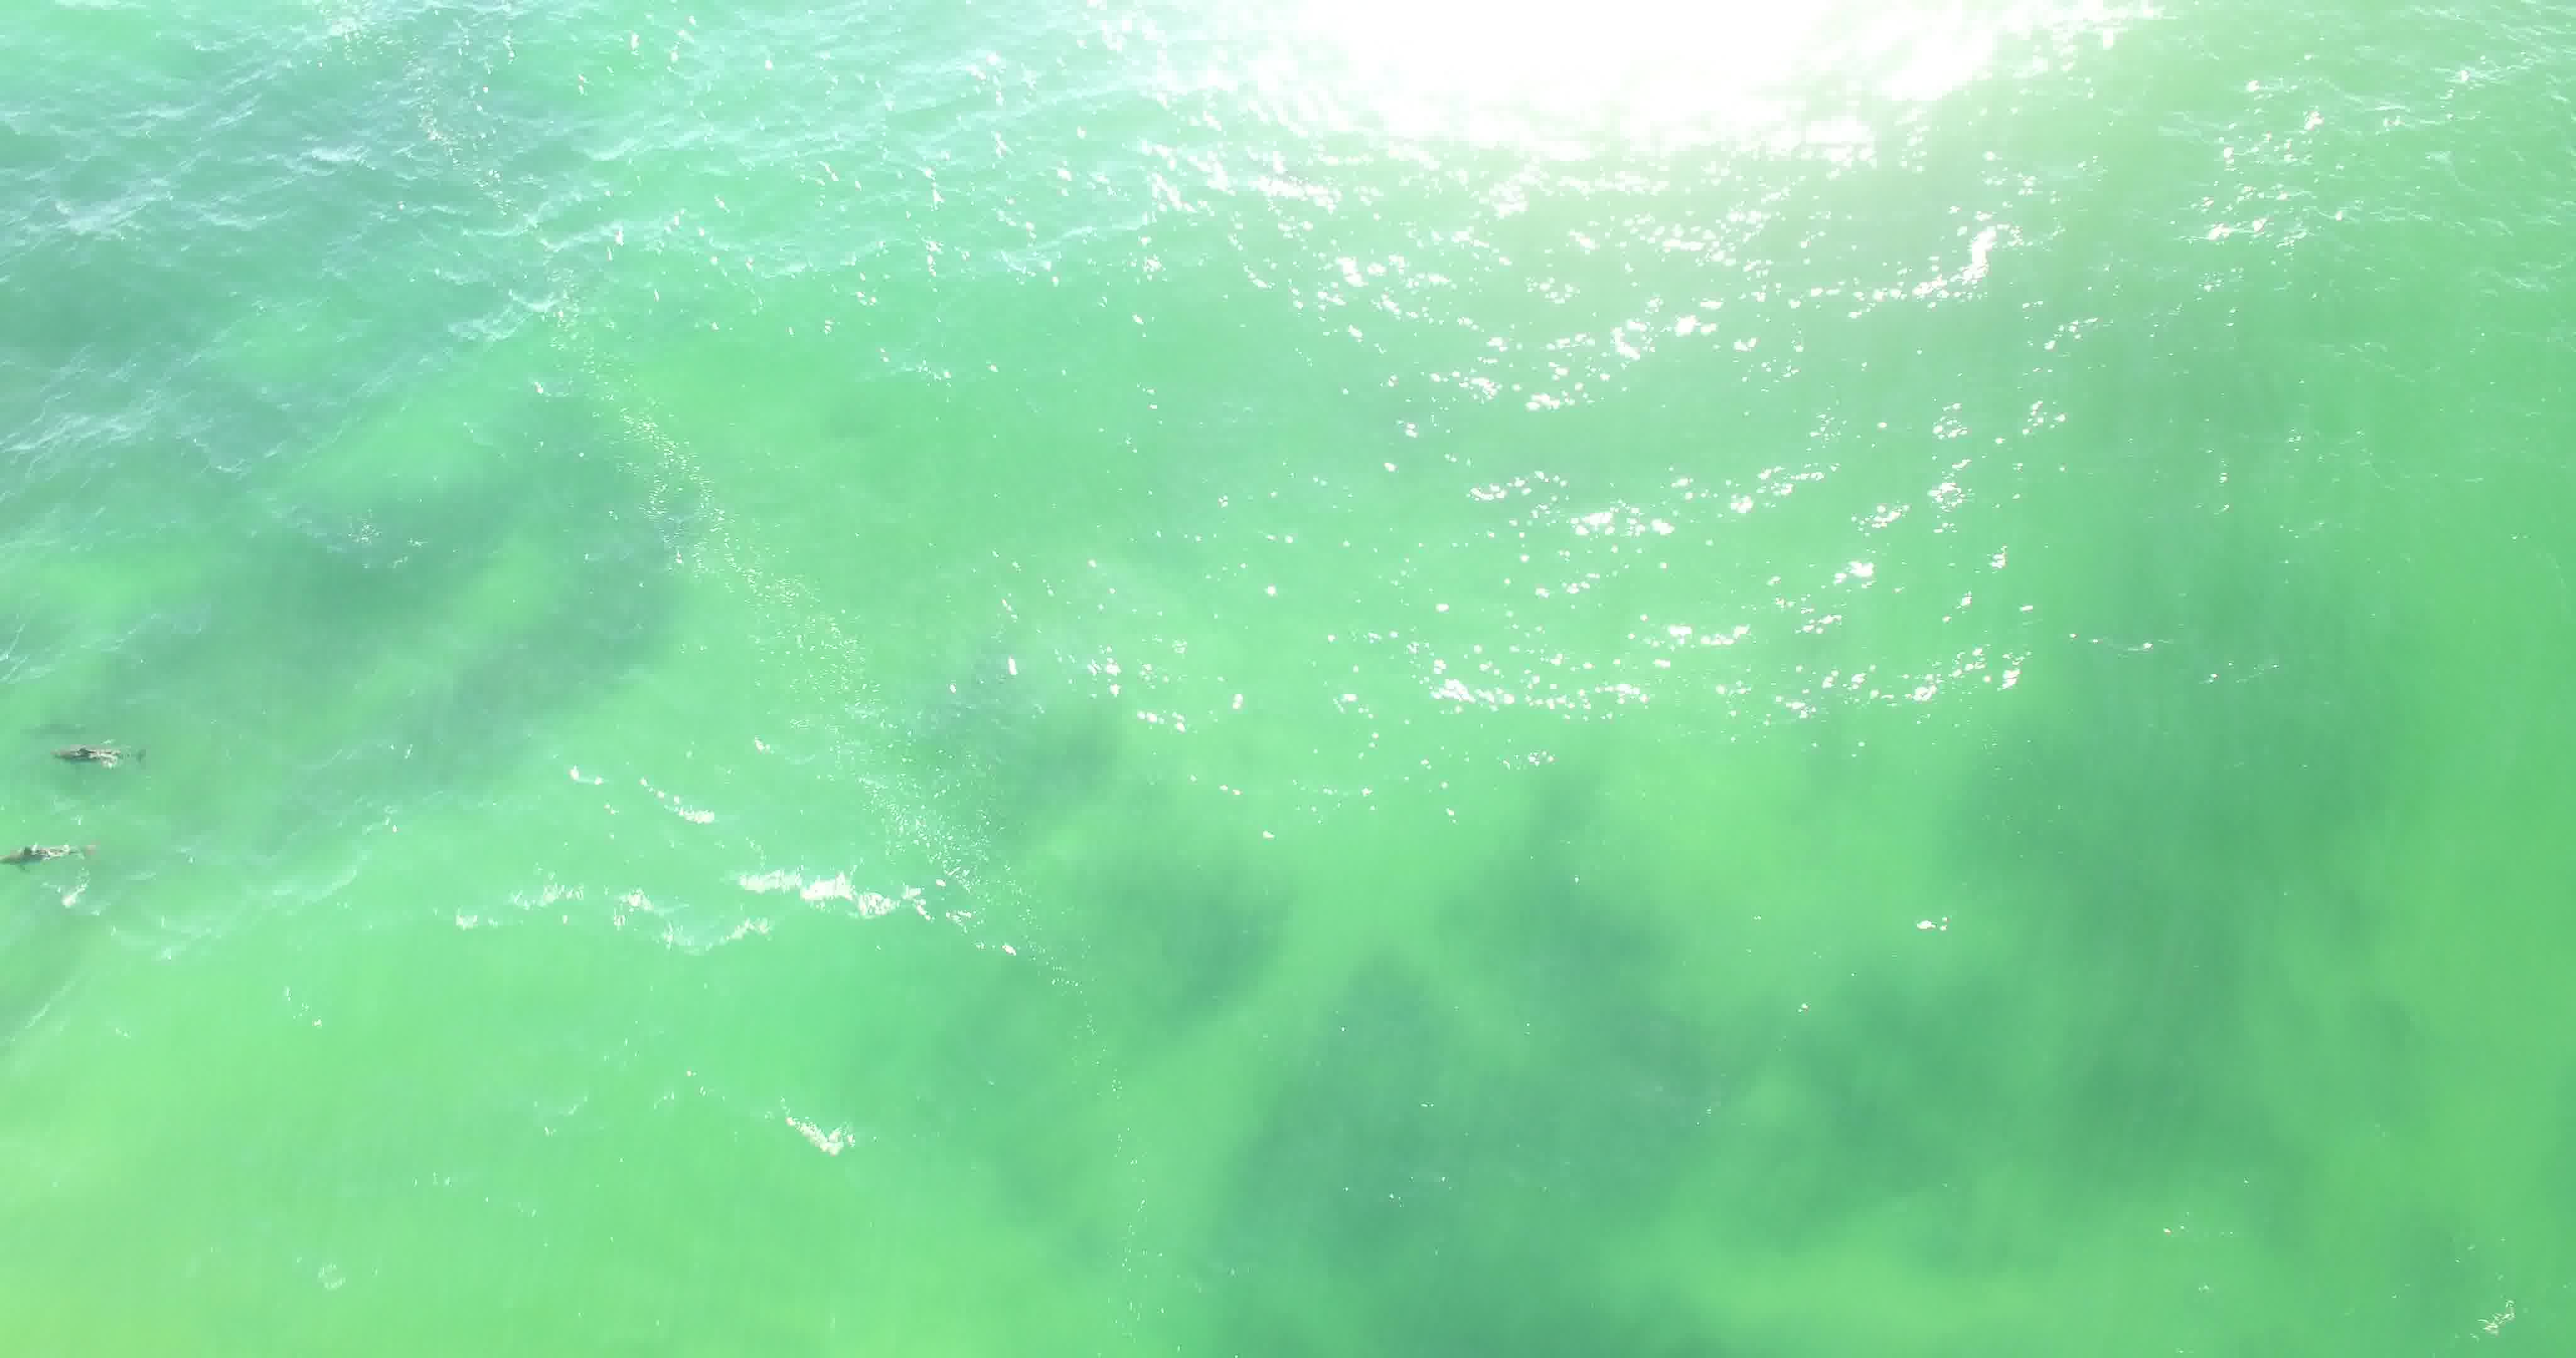dolphin: (34, 724, 160, 785), (0, 820, 102, 876)
